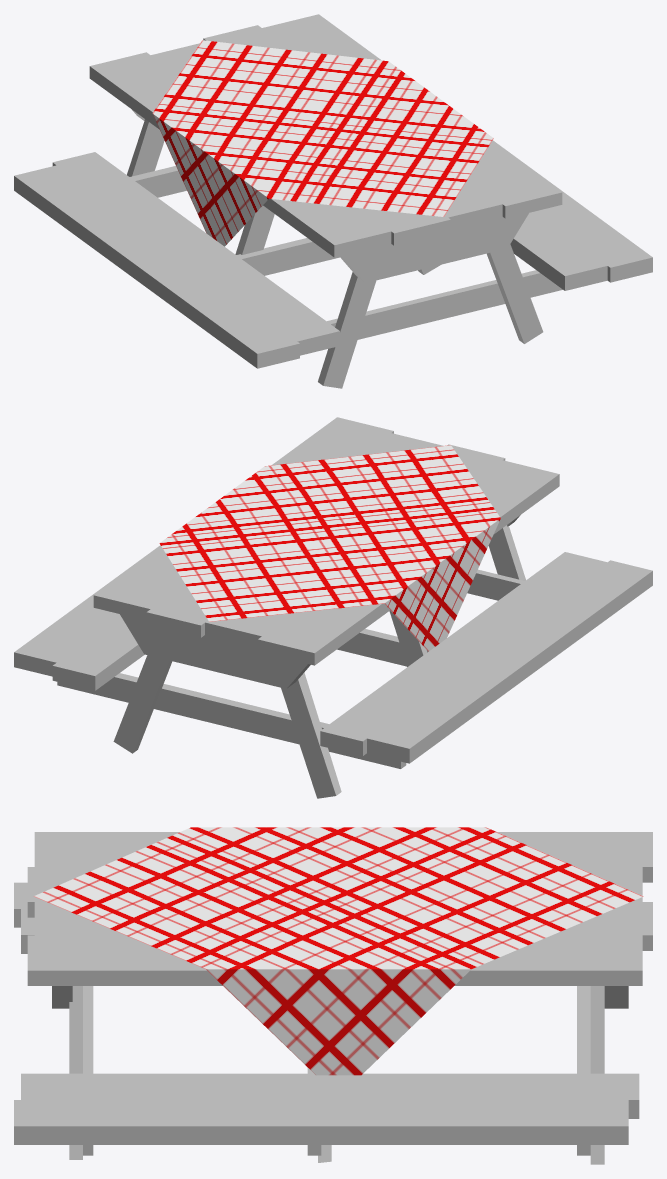
The model's file is GGJ_Pickanick.fbx.
The picture shows the model from 3 angles, top to bottom: view 1: azimuth 30°, elevation 25°; view 2: azimuth 150°, elevation 25°; view 3: azimuth 270°, elevation 25°; orthographic projection. The views are drawn at different scales.
Parts seen in each view (by area): view 1: Cube.014; view 2: Cube.014; view 3: Cube.014.
Part boxes in pixels (left/top/right/bottom): Cube.014: left=14, top=14, right=652, bottom=388; Cube.014: left=14, top=417, right=652, bottom=798; Cube.014: left=14, top=827, right=652, bottom=1164.
Size of the model in its own units: 1035 by 414 by 1147.
